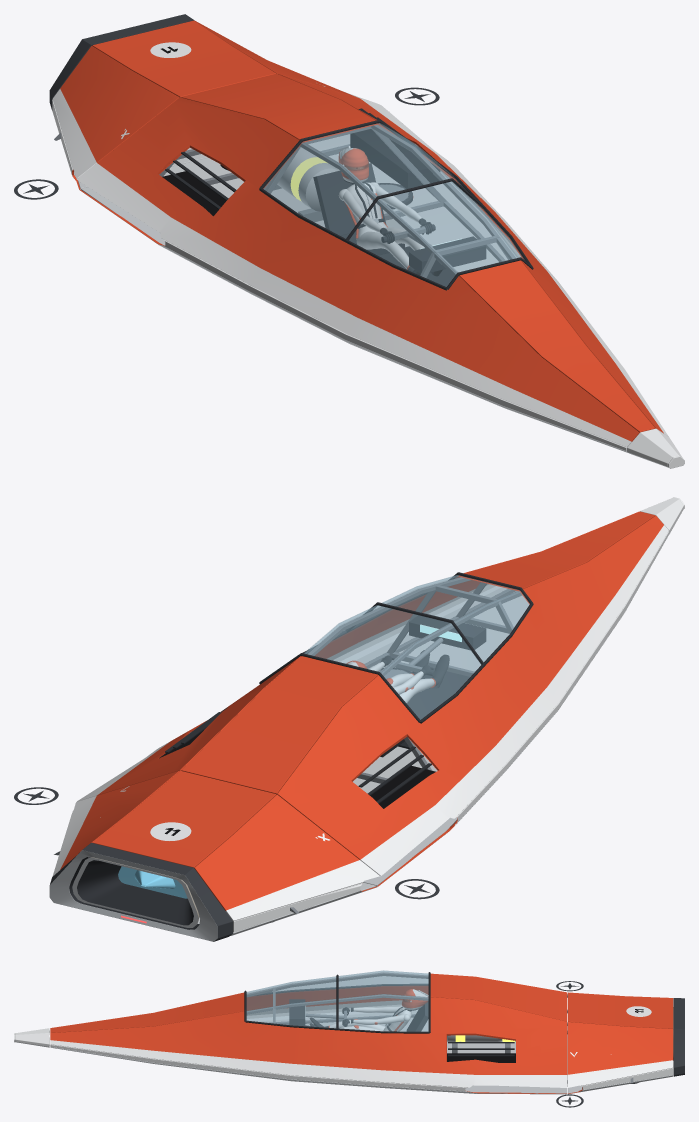
File: vortex_core.fbx
3 views of the same model, one above another, from view 1: azimuth 30°, elevation 25°; view 2: azimuth 150°, elevation 25°; view 3: azimuth 270°, elevation 25° (orthographic). The views are drawn at different scales.
Visible parts, largest first — view 1: Body_Facet_L, Body_Top, Tail_Facet_L, Tail_Top, Body_Facet_R, Body_Belly, Cockpit_Parts, Pilot, Radiators, Body_Edge_L, Canopy_Frame, Longerons (+7 smaller); view 2: Body_Facet_L, Body_Top, Tail_Facet_L, Tail_Top, Body_Facet_R, Engine, Tail_Collar, Body_Belly, Tail_Facet_R, Cockpit_Parts, Longerons, Canopy_Frame (+7 smaller); view 3: Body_Facet_R, Body_Top, Tail_Facet_R, Body_Facet_L, Tail_Top, Body_Belly, Body_Edge_R, Pilot, Longerons, Canopy_Frame, Body_Chine_R, Cockpit_Parts (+9 smaller).
Part boxes in pixels (<box>): Body_Facet_L: <box>77,97,639,447</box>; Body_Top: <box>181,73,655,432</box>; Tail_Facet_L: <box>52,46,179,178</box>; Tail_Top: <box>92,20,275,97</box>; Body_Facet_R: <box>278,73,668,436</box>; Body_Belly: <box>81,134,520,271</box>; Cockpit_Parts: <box>313,163,486,286</box>; Pilot: <box>338,146,442,276</box>; Radiators: <box>162,108,440,216</box>; Body_Edge_L: <box>163,240,626,450</box>; Canopy_Frame: <box>259,120,533,290</box>; Longerons: <box>300,125,515,276</box>; Body_Facet_L: <box>277,516,668,875</box>; Body_Top: <box>181,511,655,794</box>; Tail_Facet_L: <box>194,794,379,921</box>; Tail_Top: <box>92,771,276,867</box>; Body_Facet_R: <box>77,511,638,801</box>; Engine: <box>72,857,199,927</box>; Tail_Collar: <box>49,843,232,941</box>; Body_Belly: <box>353,587,529,886</box>; Tail_Facet_R: <box>52,770,179,876</box>; Cockpit_Parts: <box>380,613,486,757</box>; Longerons: <box>308,577,521,675</box>; Canopy_Frame: <box>259,572,533,723</box>; Body_Facet_R: <box>50,994,567,1087</box>; Body_Top: <box>50,971,567,1032</box>; Tail_Facet_R: <box>567,1022,673,1087</box>; Body_Facet_L: <box>52,970,565,1027</box>; Tail_Top: <box>568,992,673,1028</box>; Body_Belly: <box>256,1010,567,1093</box>; Body_Edge_R: <box>50,1044,467,1091</box>; Pilot: <box>309,989,428,1031</box>; Longerons: <box>246,972,567,1083</box>; Canopy_Frame: <box>244,972,430,1033</box>; Body_Chine_R: <box>50,1047,566,1094</box>; Cockpit_Parts: <box>289,999,428,1031</box>.
Bounding box in the file's own units: 260 × 69.5 × 583.
